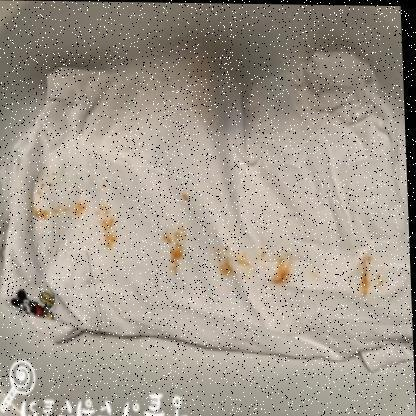kimchi: (29, 188, 118, 235), (210, 242, 304, 283), (157, 222, 194, 273), (357, 252, 388, 297), (96, 227, 124, 254), (174, 188, 193, 206)
